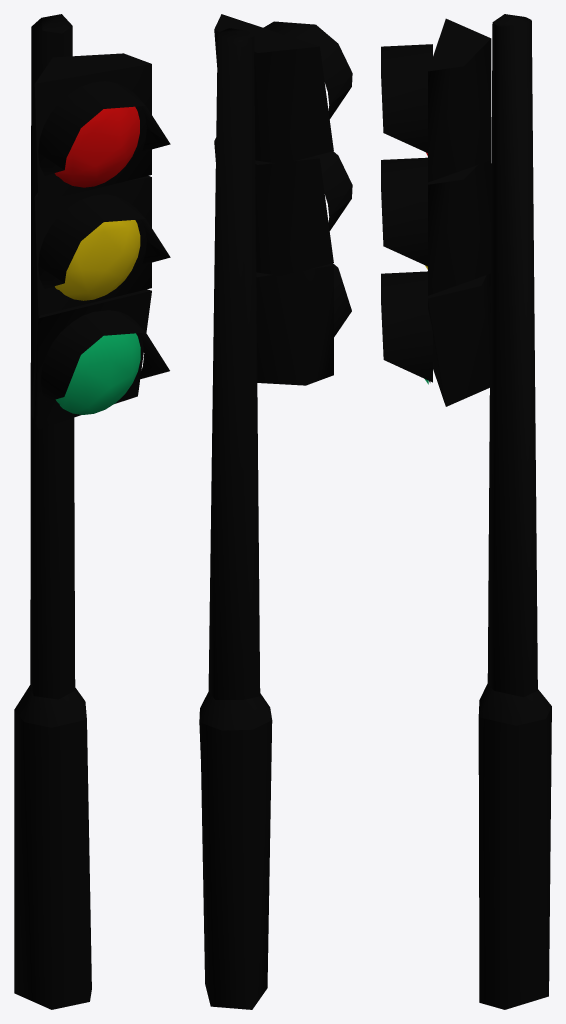
File: traffic-light-new.glb
3 renders of one model, left to right at view 1: azimuth 30°, elevation 25°; view 2: azimuth 150°, elevation 25°; view 3: azimuth 270°, elevation 25°, orthographic.
Visible parts, largest first — view 1: ampel, ampel.3, ampel.2, ampel.1; view 2: ampel; view 3: ampel.
Part boxes in pixels (x1,y1,x2,y2): ampel: (14,14,170,1009); ampel.3: (55,333,140,414); ampel.2: (55,220,140,300); ampel.1: (54,106,139,187); ampel: (199,14,352,1009); ampel: (381,14,551,1009).
Size of the model in its own units: 0.7322 by 5.99 by 0.9523.
